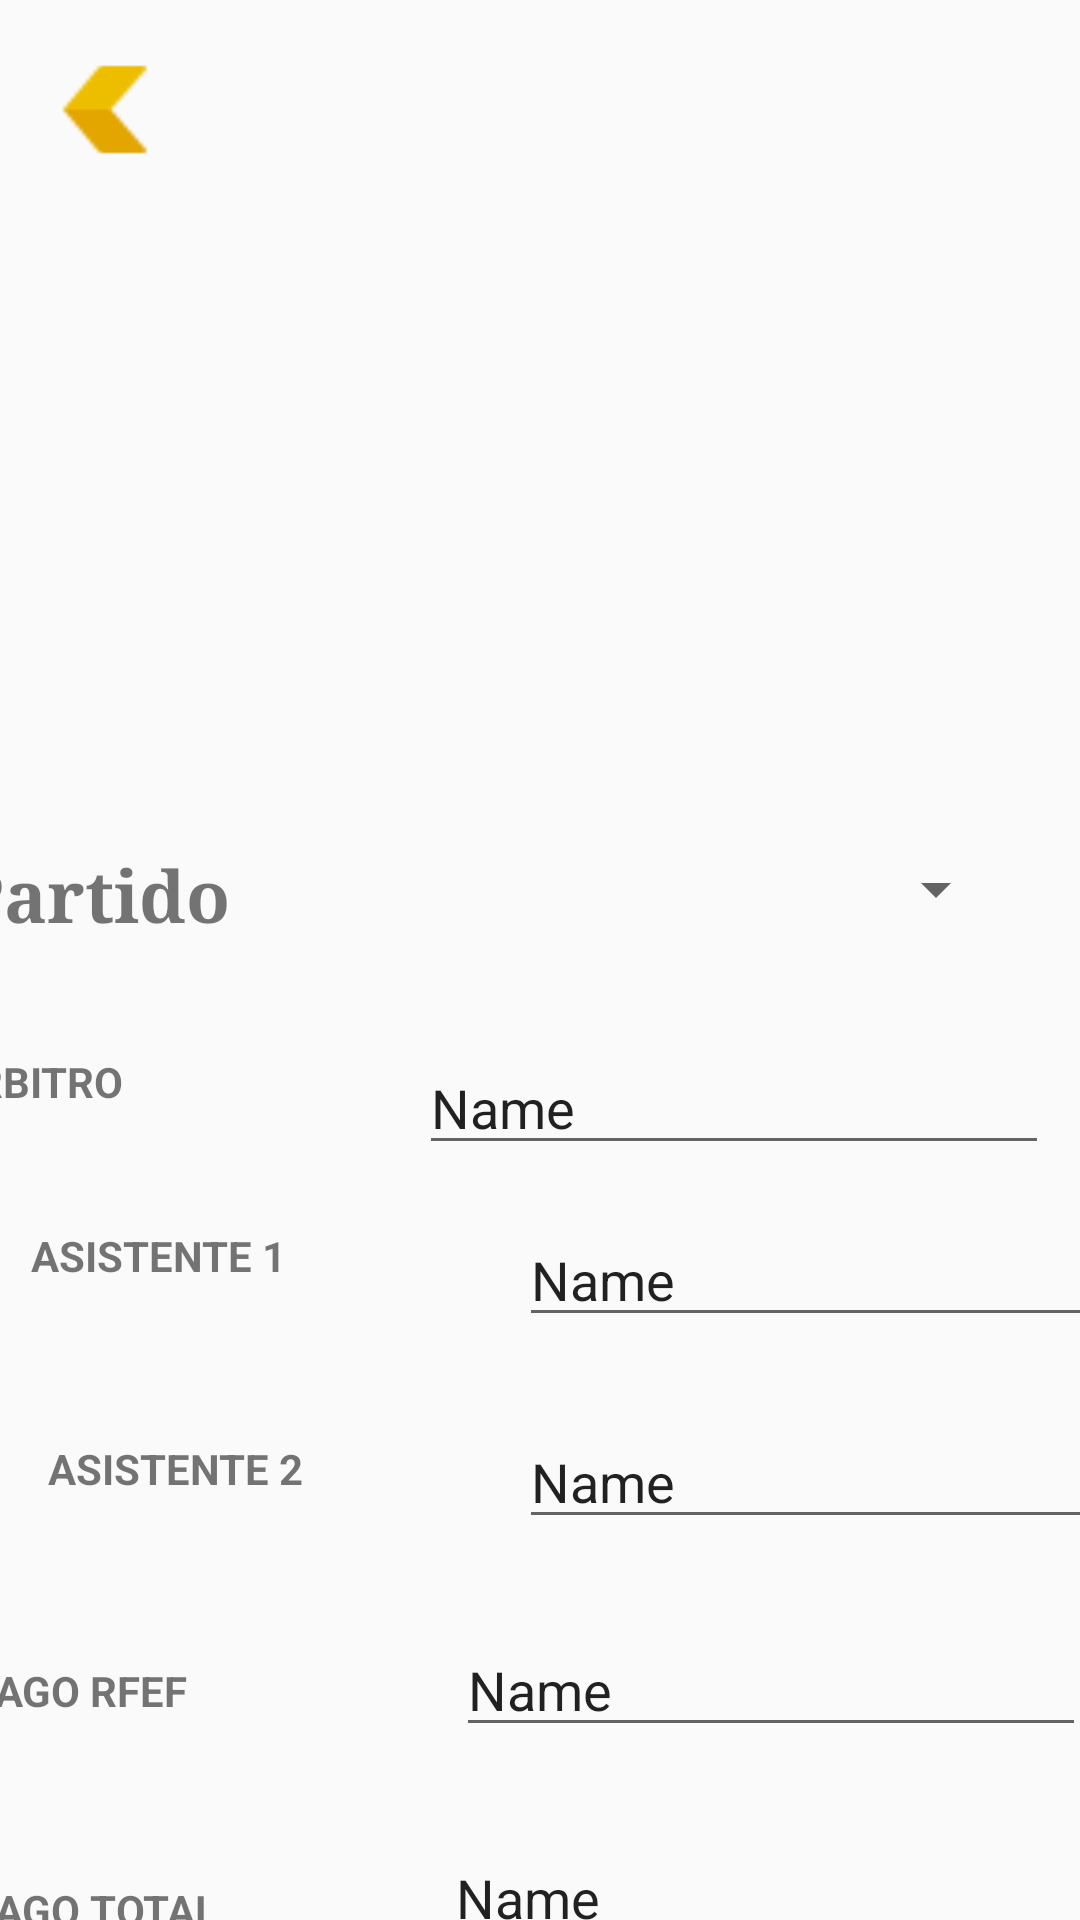

Icons on this 1080w x 1920h Android screen, each with its box as BBox(x1, y1, x2, y2):
volveroro: BBox(62, 65, 148, 154)
